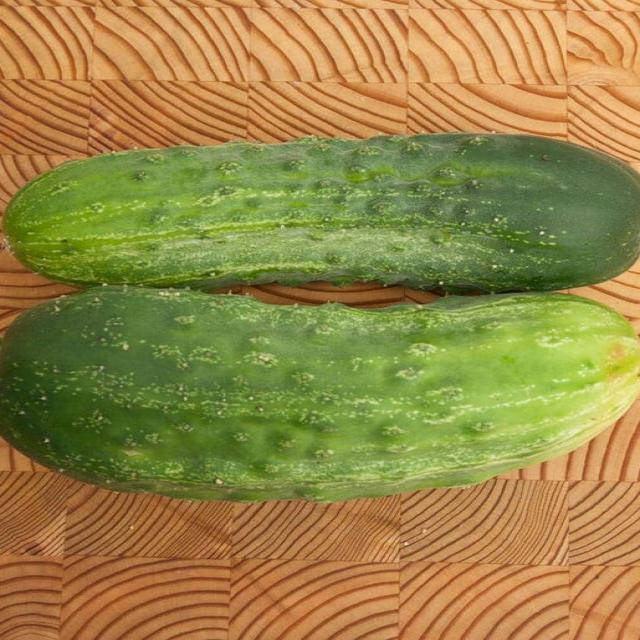Pickle: (2, 285, 638, 501), (3, 134, 638, 292)
